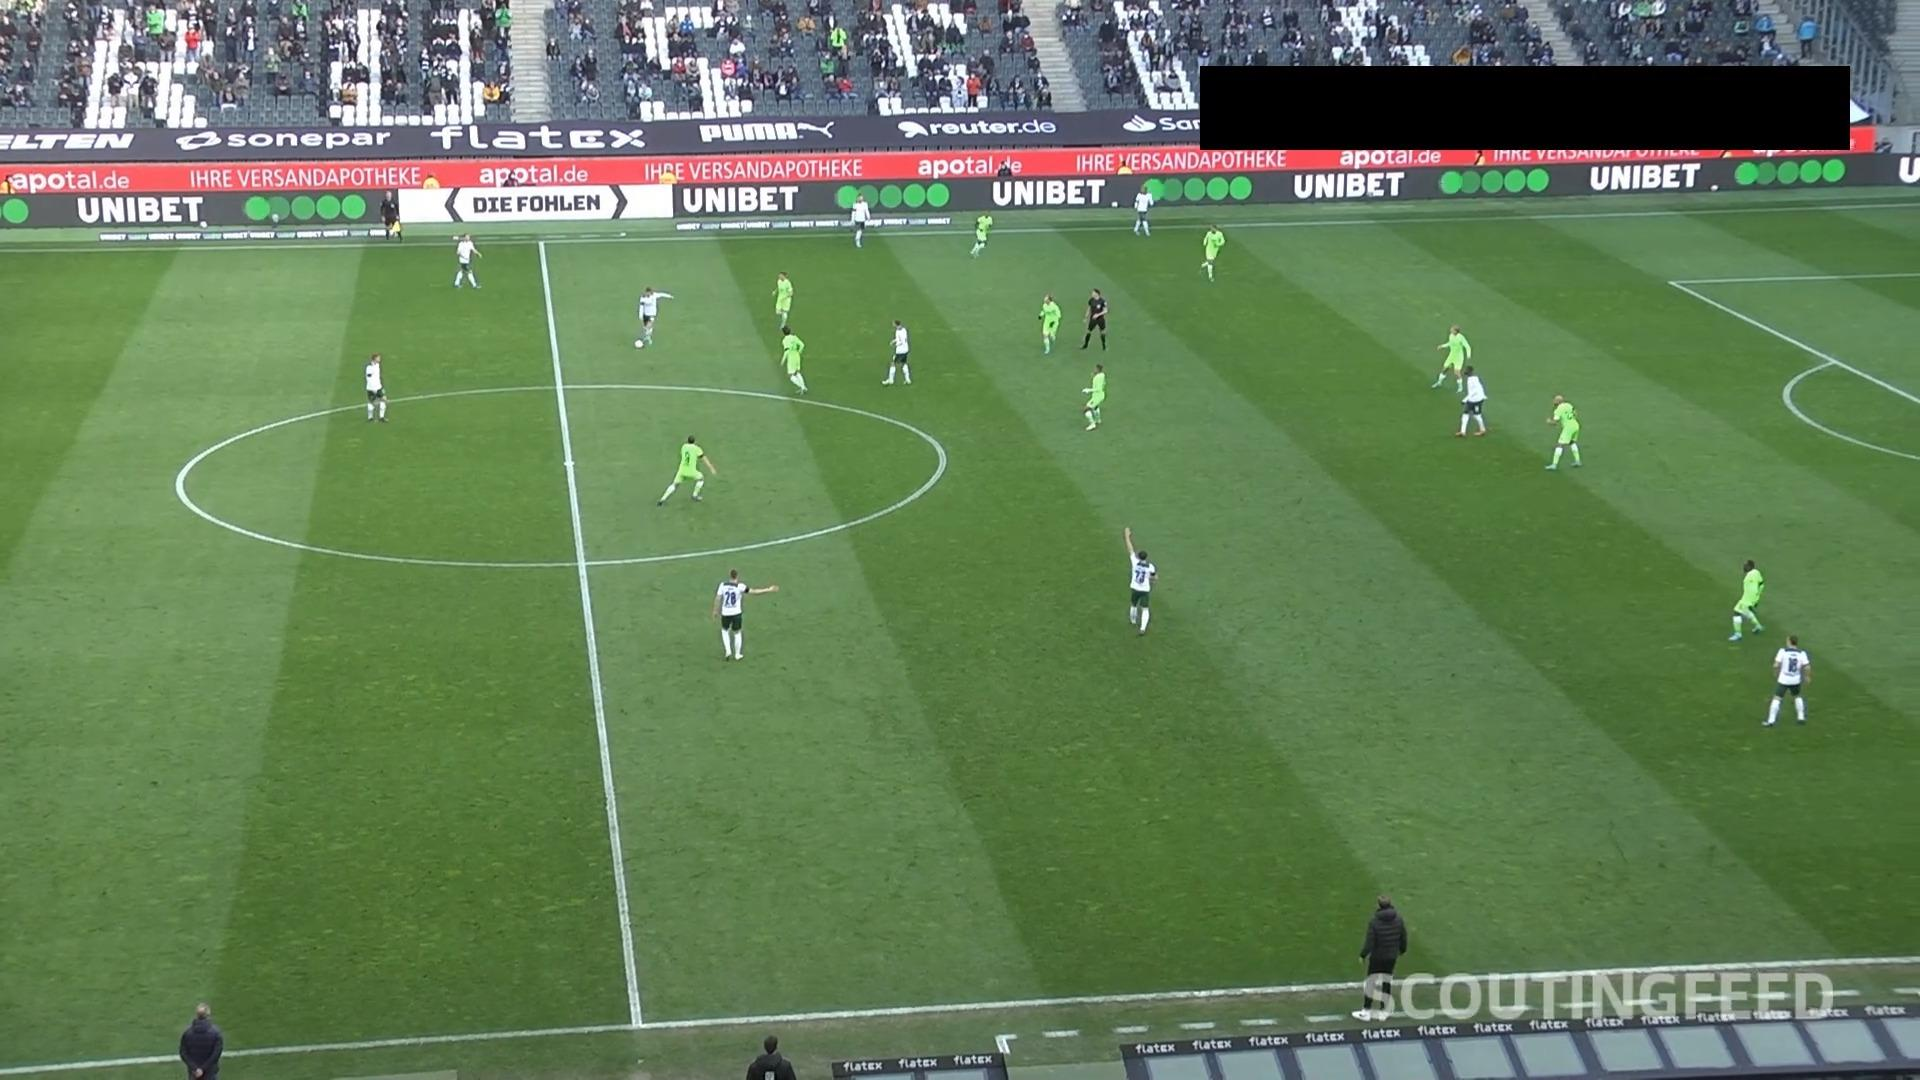ball: (1734, 160, 1758, 185), (1775, 159, 1799, 184), (1799, 158, 1821, 183), (633, 339, 643, 349)
coach: (1357, 894, 1407, 1011), (178, 1002, 223, 1078)
player: (710, 568, 778, 660), (1760, 634, 1811, 726), (655, 434, 717, 505), (1121, 525, 1157, 635), (1727, 557, 1764, 640), (1544, 392, 1581, 470), (1430, 322, 1470, 392), (1454, 363, 1488, 437), (633, 285, 673, 347), (778, 324, 808, 394), (880, 319, 911, 385), (1080, 362, 1106, 431), (451, 231, 482, 288), (363, 352, 388, 422), (1036, 293, 1060, 354), (1199, 223, 1224, 281), (771, 270, 793, 330), (1132, 183, 1153, 236), (849, 194, 869, 248), (969, 212, 991, 257)
referee: (745, 1034, 796, 1078), (1079, 287, 1108, 350), (378, 190, 403, 244)
